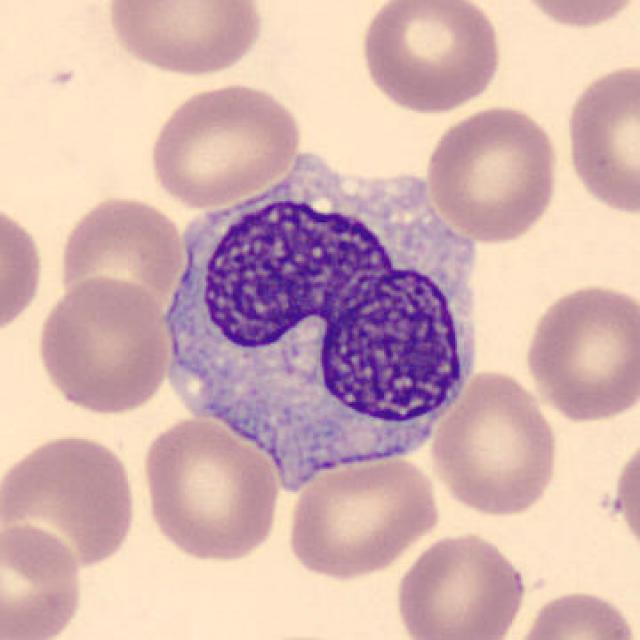Monocyte: (151, 146, 489, 490)
RBC: (138, 414, 282, 564), (144, 78, 306, 210), (2, 428, 142, 578), (282, 451, 442, 582), (426, 367, 562, 520), (32, 272, 174, 416), (422, 101, 564, 245), (355, 0, 506, 116), (54, 192, 188, 321), (521, 279, 638, 423), (389, 529, 530, 640), (103, 0, 268, 79), (560, 60, 638, 220), (0, 518, 87, 640), (507, 585, 638, 640), (0, 197, 48, 344), (608, 430, 640, 568), (508, 0, 640, 32)
